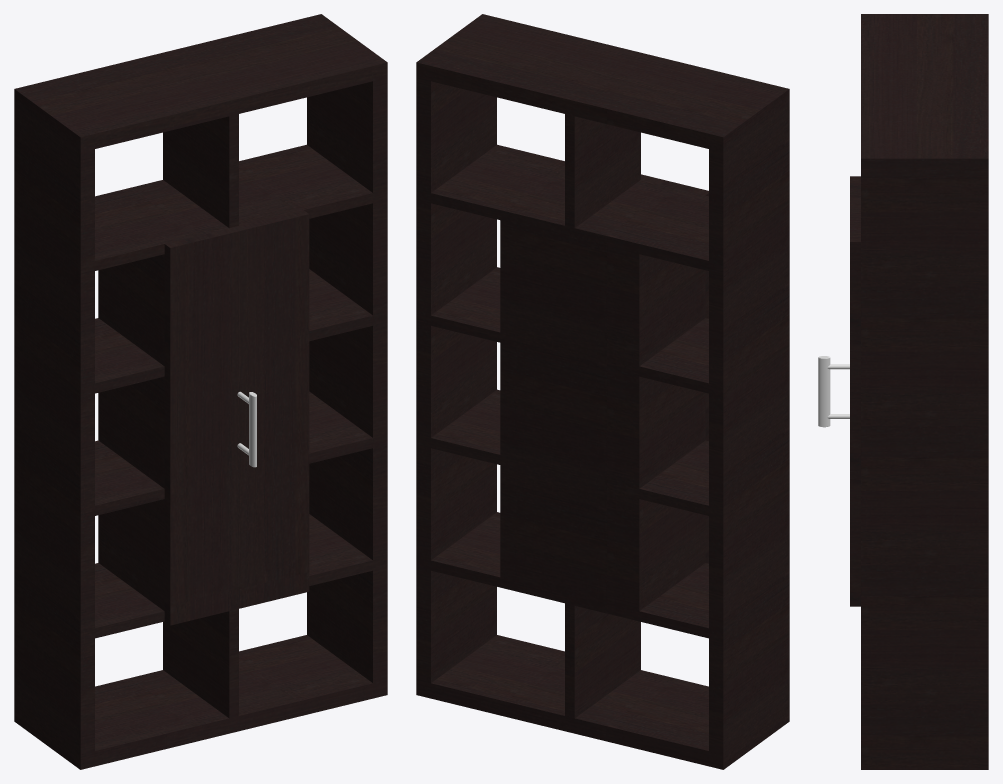
The model's file is Bookcase 1.fbx.
The picture shows the model from 3 angles, left to right: view 1: azimuth 30°, elevation 25°; view 2: azimuth 150°, elevation 25°; view 3: azimuth 270°, elevation 25°; orthographic projection. The views are drawn at different scales.
Parts seen in each view (by area): view 1: Generic_Solid, Extrude, Generic_Solid_2; view 2: Generic_Solid, Extrude; view 3: Generic_Solid, Extrude, Generic_Solid_2.
Part boxes in pixels (box(x1,y1,x2,y2)): Generic_Solid: box(14, 14, 387, 769); Extrude: box(164, 210, 309, 625); Generic_Solid_2: box(237, 391, 256, 467); Generic_Solid: box(416, 14, 789, 769); Extrude: box(641, 174, 708, 563); Generic_Solid: box(861, 14, 988, 769); Extrude: box(850, 176, 860, 606); Generic_Solid_2: box(818, 356, 849, 427).
Size of the model in its own units: 800 by 1575 by 398.
2 materials, 1 textured.
